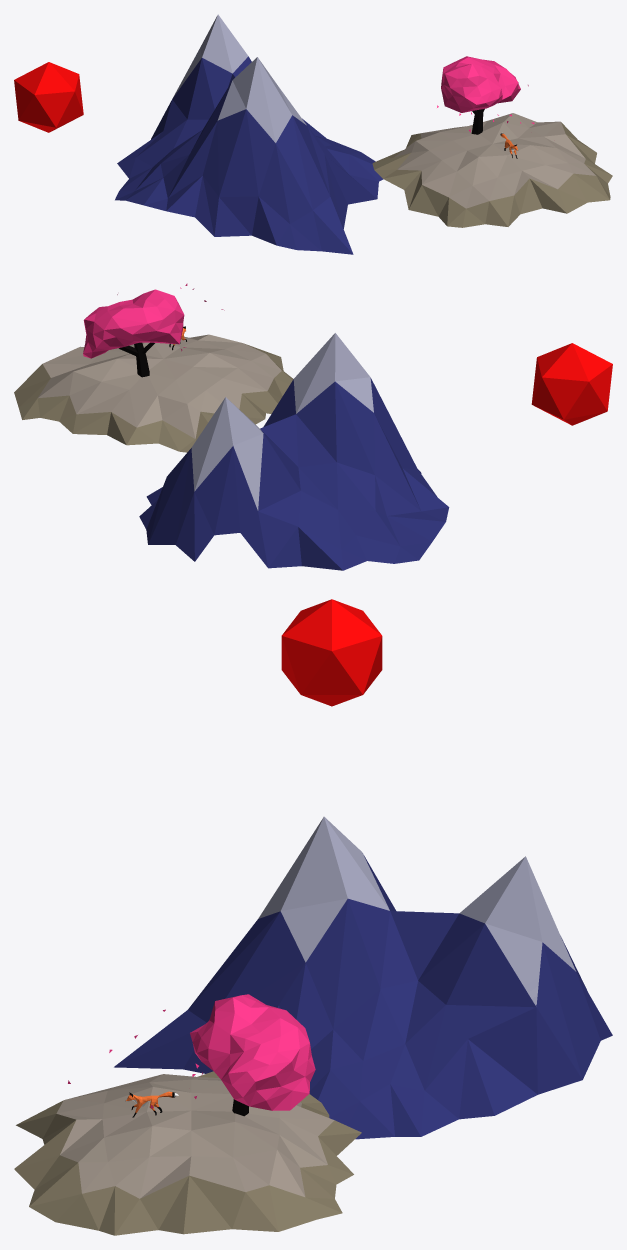
3 renders of one model, top to bottom at view 1: azimuth 30°, elevation 25°; view 2: azimuth 150°, elevation 25°; view 3: azimuth 270°, elevation 25°, orthographic. The views are drawn at different scales.
Parts seen in each view (by area): view 1: Plane_001, Plane, Icosphere_001, Icosphere; view 2: Plane_001, Plane, Icosphere_001, Icosphere, Cylinder_001; view 3: Plane_001, Plane, Icosphere, Icosphere_001.
Part boxes in pixels (x1,y1,x2,y2): Plane_001: (115,14,383,254); Plane: (372,113,612,227); Icosphere_001: (14,62,83,132); Icosphere: (437,56,534,132); Plane_001: (139,333,449,570); Plane: (14,334,293,452); Icosphere_001: (531,343,612,425); Icosphere: (83,283,224,358); Cylinder_001: (119,342,154,377); Plane_001: (114,816,612,1139); Plane: (14,1071,361,1235); Icosphere: (68,994,315,1110); Icosphere_001: (281,599,382,706).
Size of the model in its own units: 92.77 by 60.17 by 32.92.
